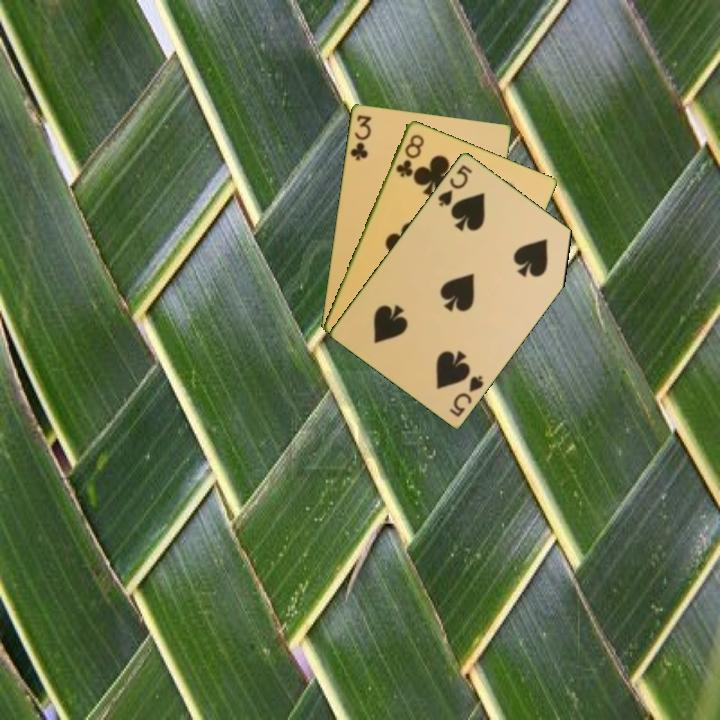3c: (346, 111, 374, 163)
5s: (434, 161, 475, 209), (446, 371, 486, 420)
8c: (392, 130, 427, 180)
